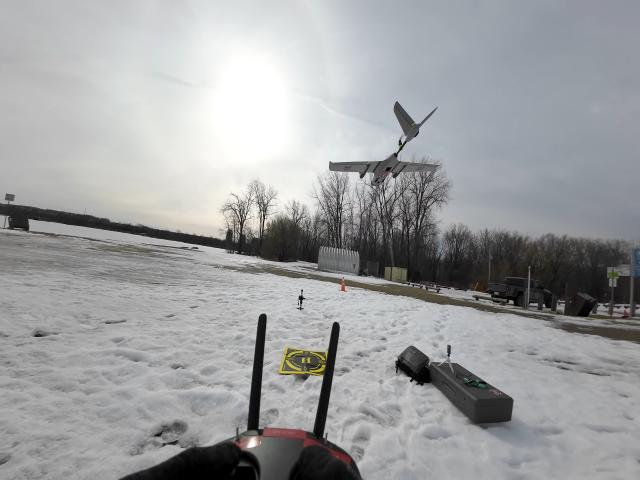plane: (329, 103, 439, 187)
